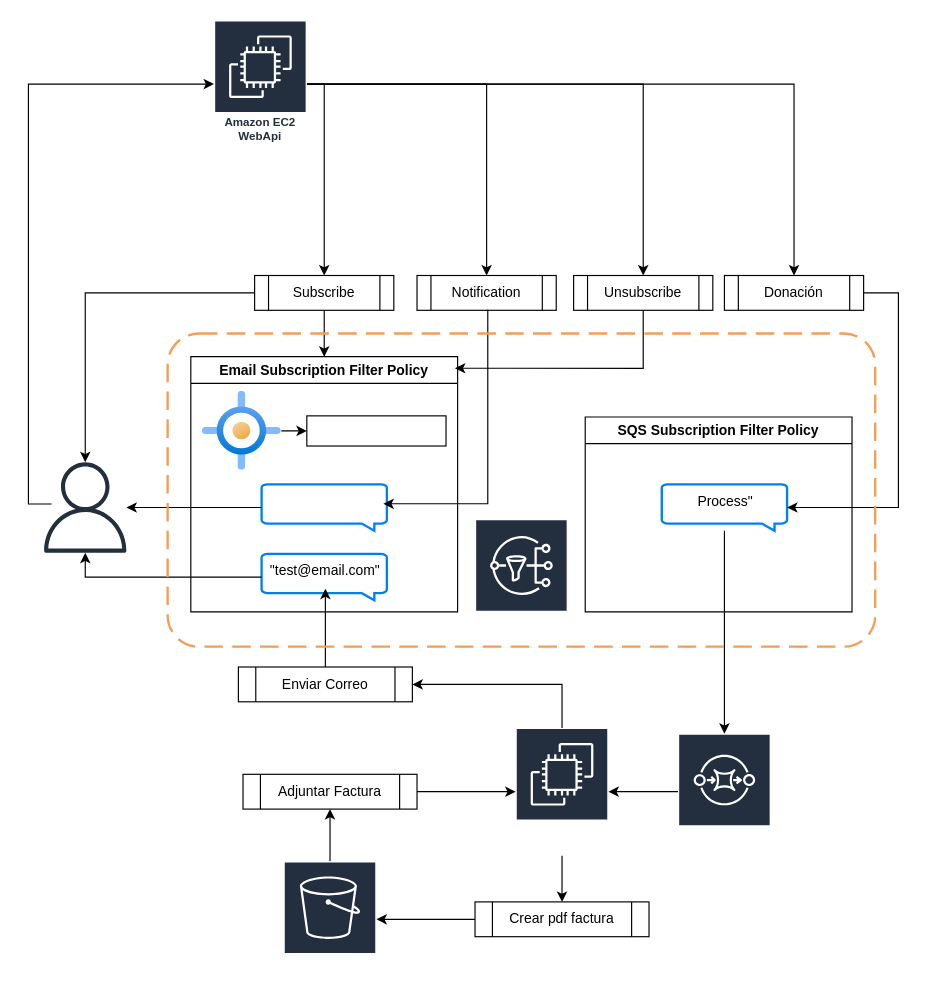
Some shapes in this 928 by 998 pixel diagram are drawn without their labels. Here are the shapes that lost their labels. From the top down, the centre of each, then its label:
(376,430): TARGET
(323,507): "all"
(521,576): Amazon SNS
(561,791): Amazon EC2 WebWorker
(724,791): Amazon SQS
(329,918): Amazon S3
